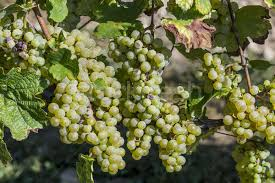grapes: (125, 28, 161, 162), (64, 34, 120, 112), (45, 76, 103, 146), (231, 88, 273, 182), (162, 97, 202, 175), (204, 48, 245, 106), (90, 123, 126, 180), (212, 2, 238, 55)
